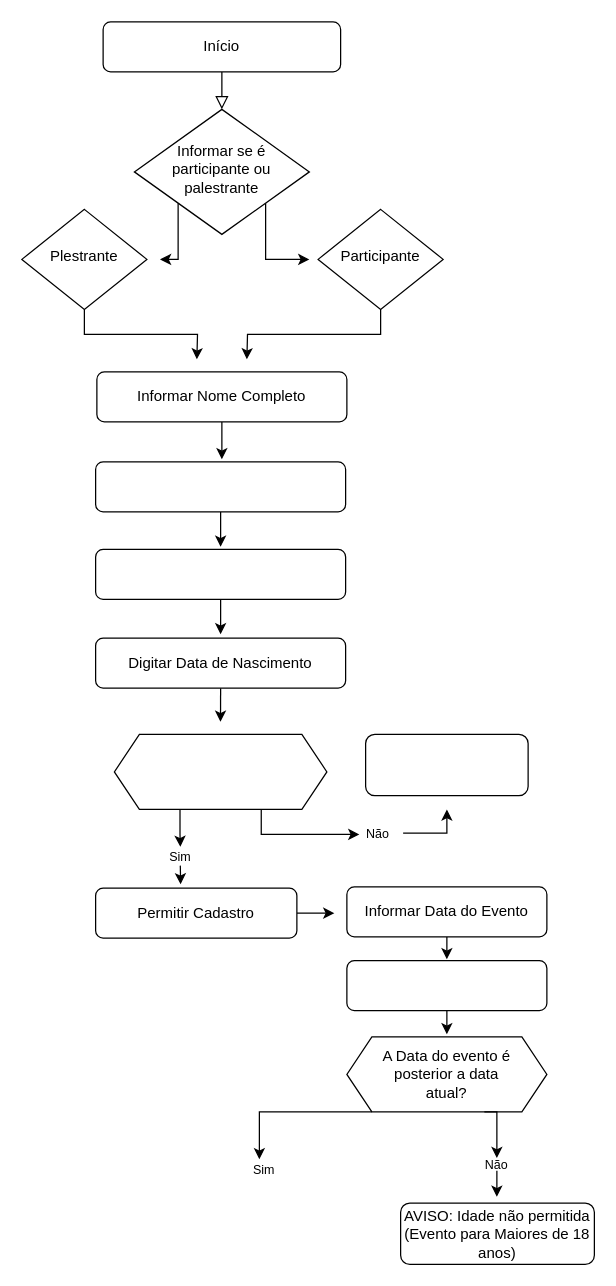
Some shapes in this 616 by 1286 pixel diagram are drawn without their labels. The shapes that lost their labels are listed below. From the top down, each one's centre as x and y in pixels, then its label:
At point 220,486: "Digitar Nome Completo".
At point 220,573: "Informar Data de Nascimento".
At point 220,771: "Participante e Palestrante é maior de 18 anos?".
At point 446,764: "Idade não permitida (Evento para Maiores de 18 anos)".
At point 446,985: "Digitar Data do Evento".
